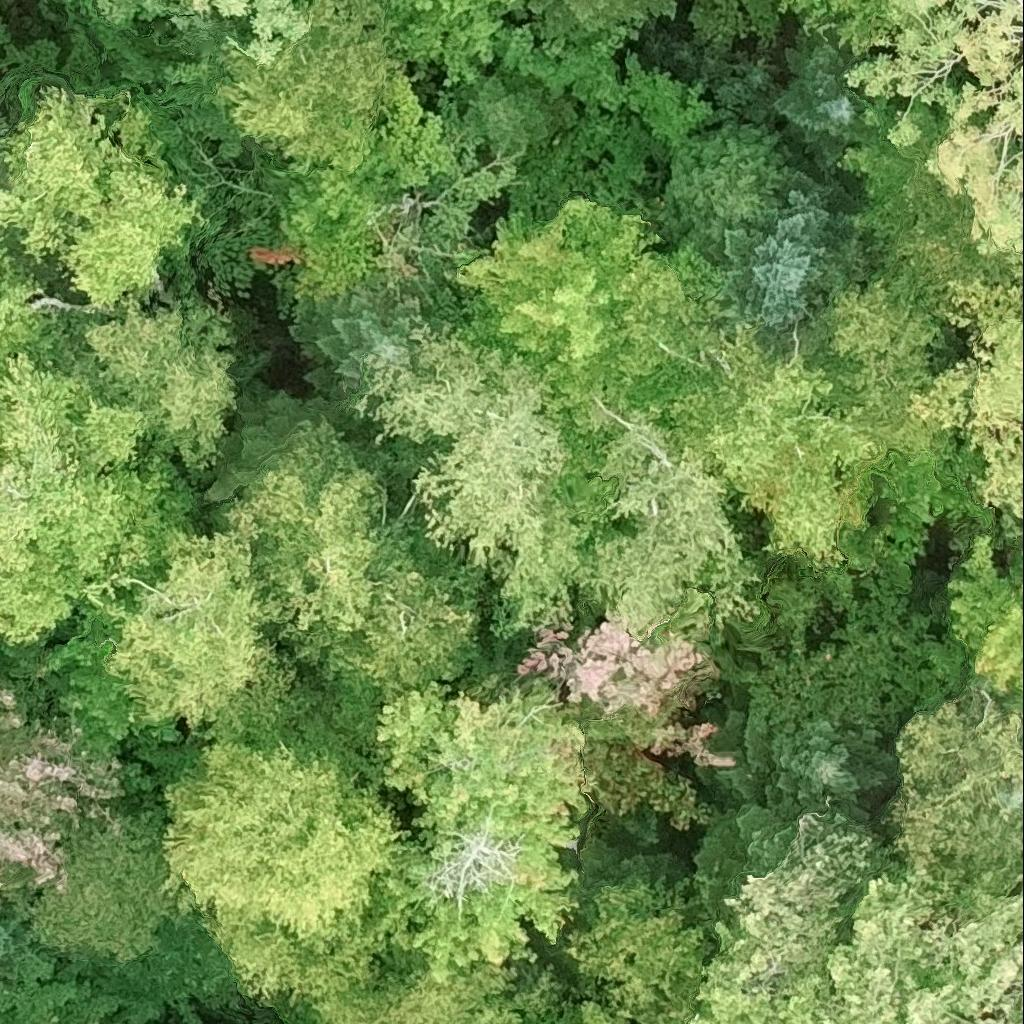crown: (0, 353, 192, 643), (174, 881, 558, 1023), (160, 735, 408, 937), (511, 607, 737, 828), (689, 813, 904, 1023), (0, 85, 197, 310), (746, 559, 949, 762), (366, 802, 582, 983), (100, 514, 273, 734), (374, 670, 595, 829), (818, 856, 1023, 1023), (0, 675, 127, 926), (879, 684, 1023, 878), (911, 274, 1023, 516), (82, 299, 238, 461), (27, 811, 193, 958), (565, 868, 710, 1023), (875, 424, 1000, 591), (946, 536, 1023, 711), (763, 709, 895, 810), (0, 948, 175, 1023), (0, 248, 42, 367), (0, 907, 33, 980), (541, 995, 627, 1023)
